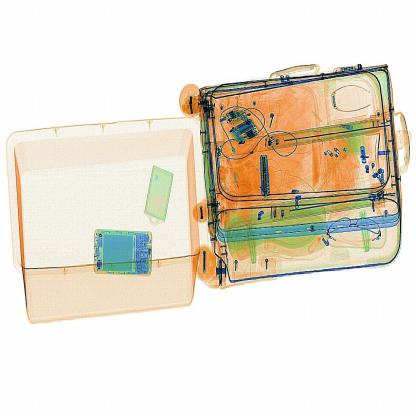scissors: (257, 152, 274, 198)
